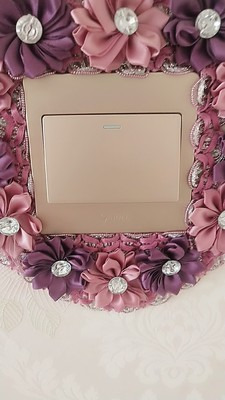switch: (37, 107, 185, 218)
